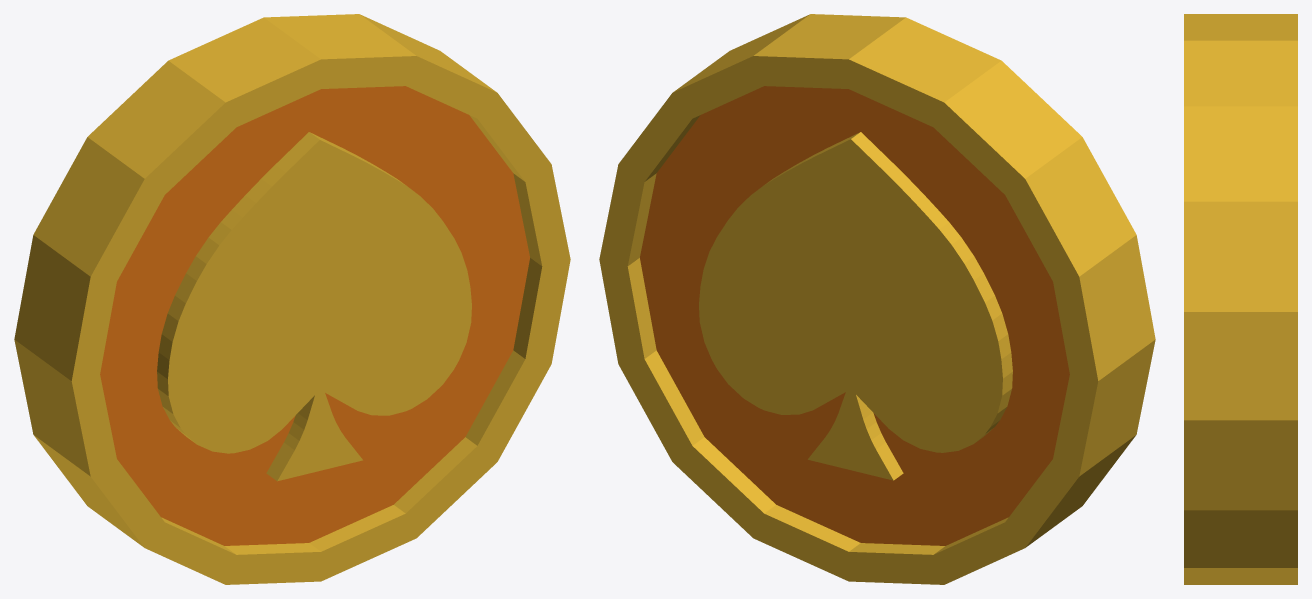
Rendered from coin05.fbx.
3 renders of one model, left to right at view 1: azimuth 30°, elevation 25°; view 2: azimuth 150°, elevation 25°; view 3: azimuth 270°, elevation 25°, orthographic.
Parts seen in each view (by area): view 1: Coin05; view 2: Coin05; view 3: Coin05.
Boxes of the visible parts, bbox=[...] form: Coin05: bbox=[14, 14, 570, 584]; Coin05: bbox=[599, 14, 1155, 584]; Coin05: bbox=[1184, 14, 1297, 584].
Bounding box in the file's own units: 84.1 × 84.1 × 16.74.
